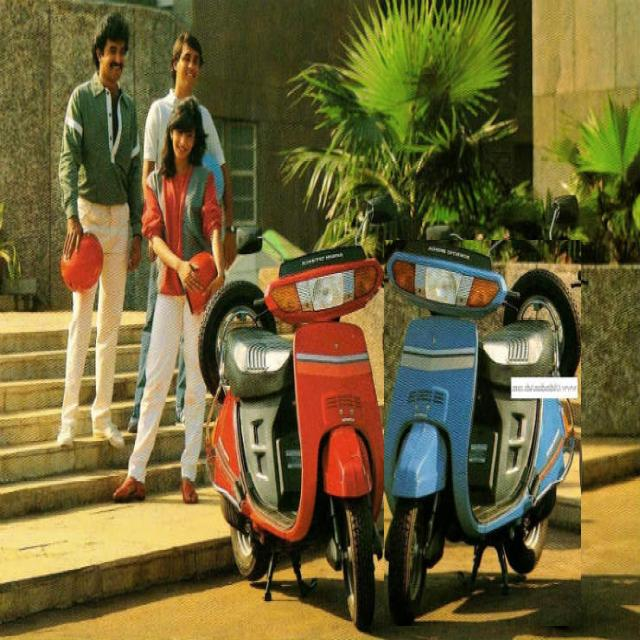motorcycle: (384, 241, 581, 626), (200, 245, 385, 627)
